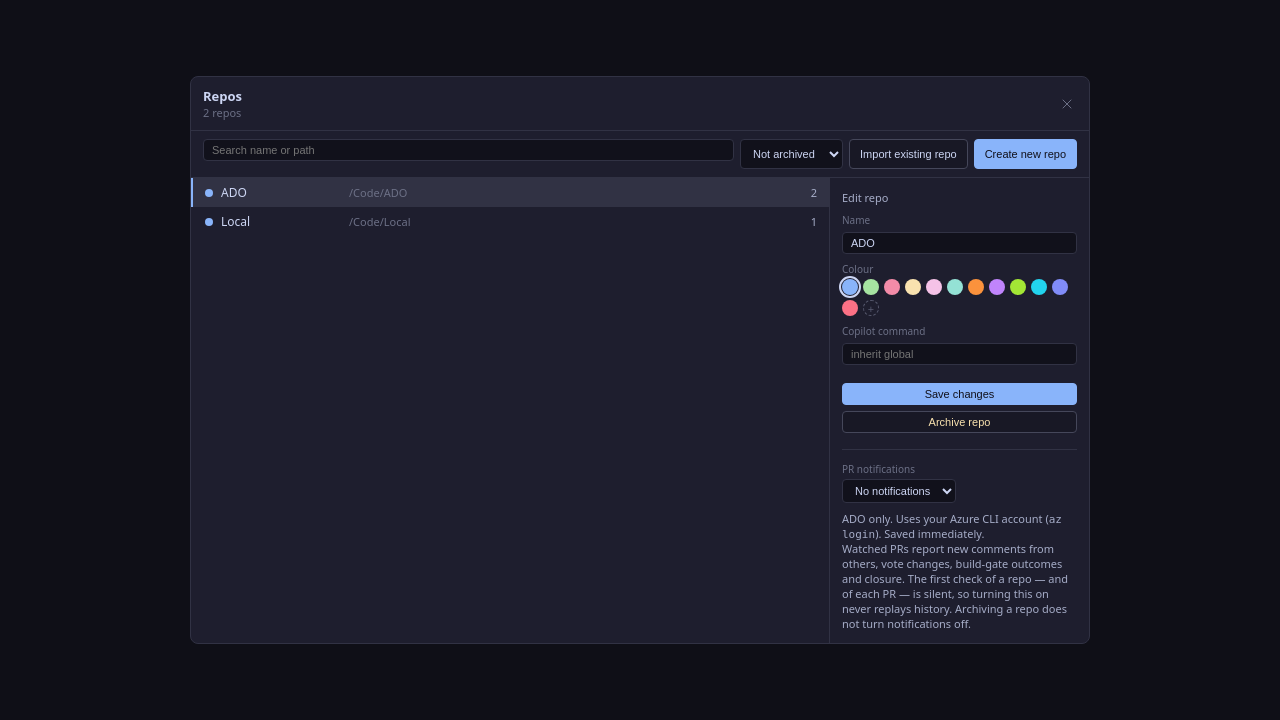
it: RepoManagerModal › offers opt-in for ADO only and reports configuration errors
The image size is (1280, 720).
Select "Both" in the dropdown with test id "repo-inbox-mode" at (899, 491), box [842, 479, 956, 503]
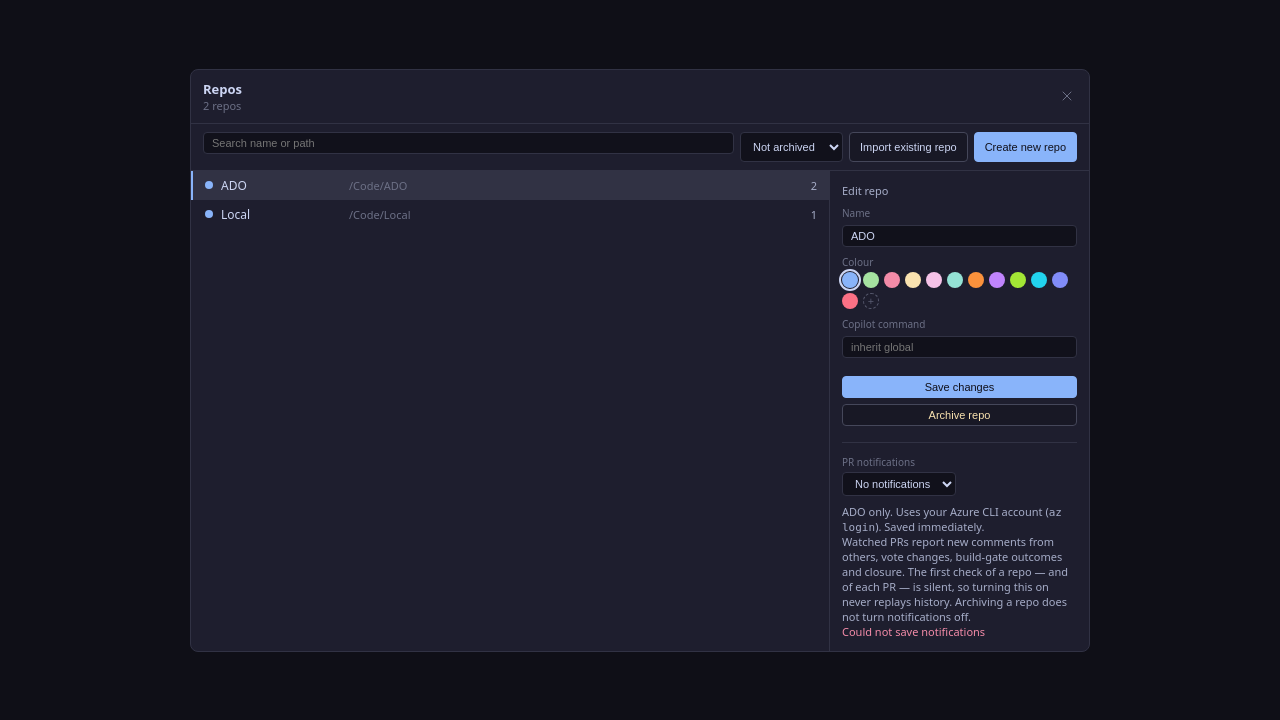
Now the text "Could not save notifications" is shown, box [842, 624, 985, 638]
Click the button with test id "repo-manager-row-p2" at (380, 214), box [205, 206, 817, 222]
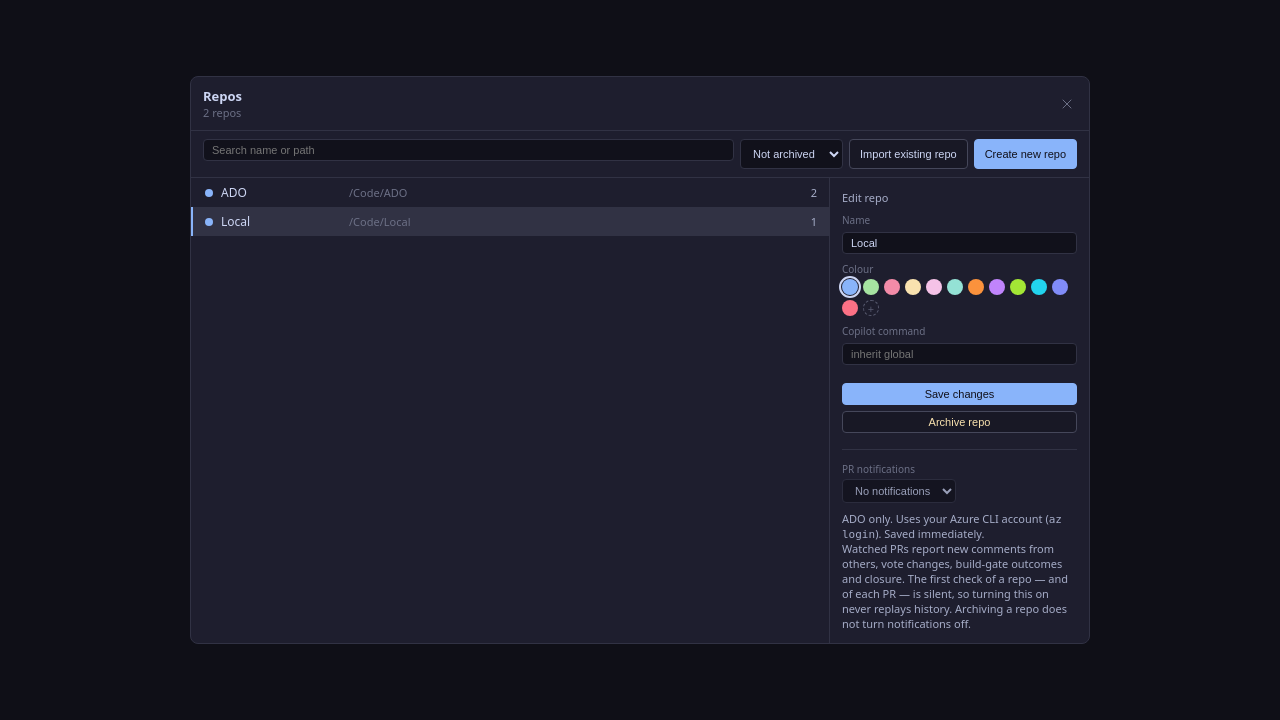
Now the dropdown with test id "repo-inbox-mode" is disabled, box [842, 479, 956, 503]
